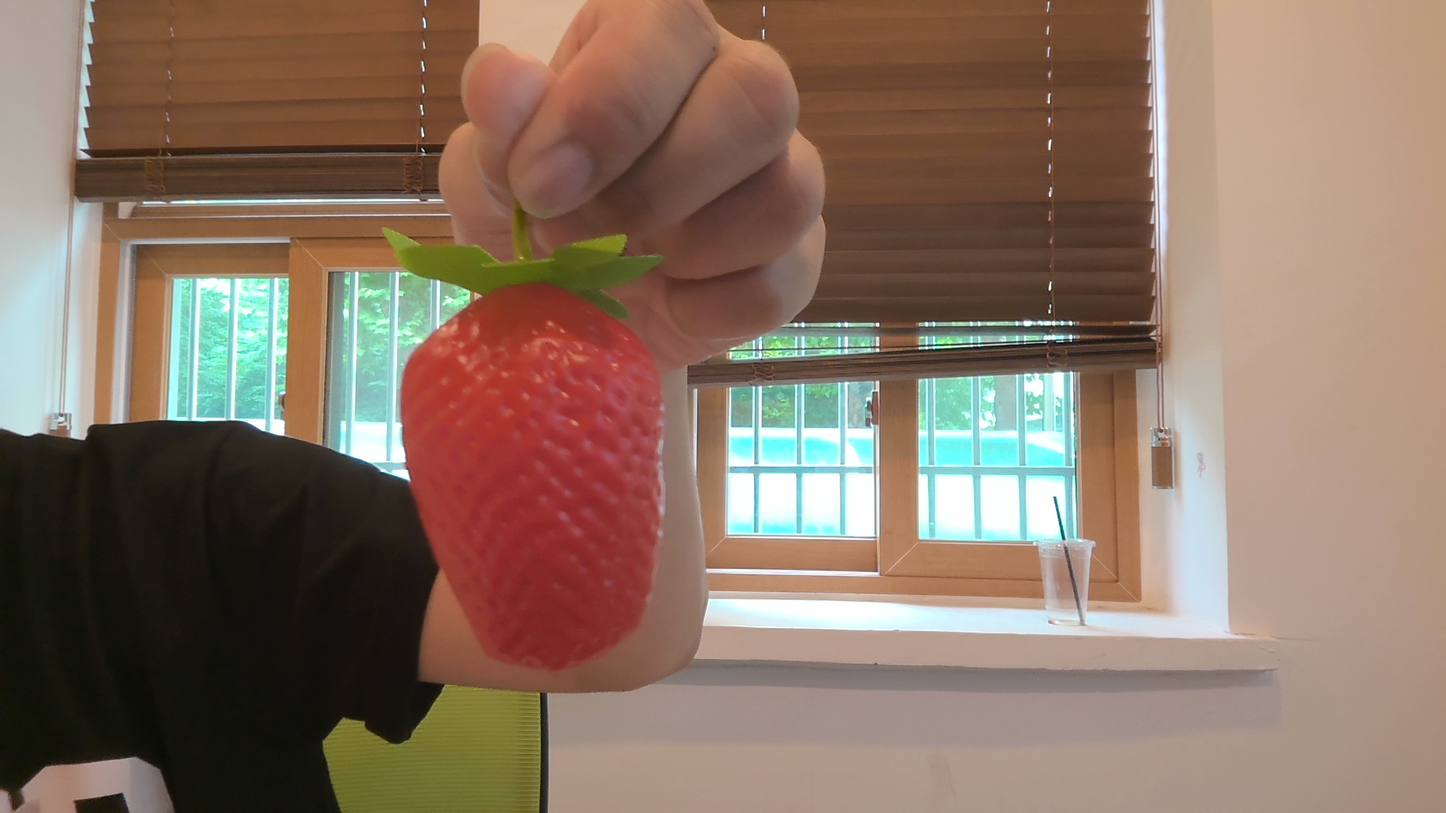strawberry: (395, 238, 669, 671)
